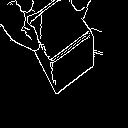cube: (18, 2, 104, 97)
